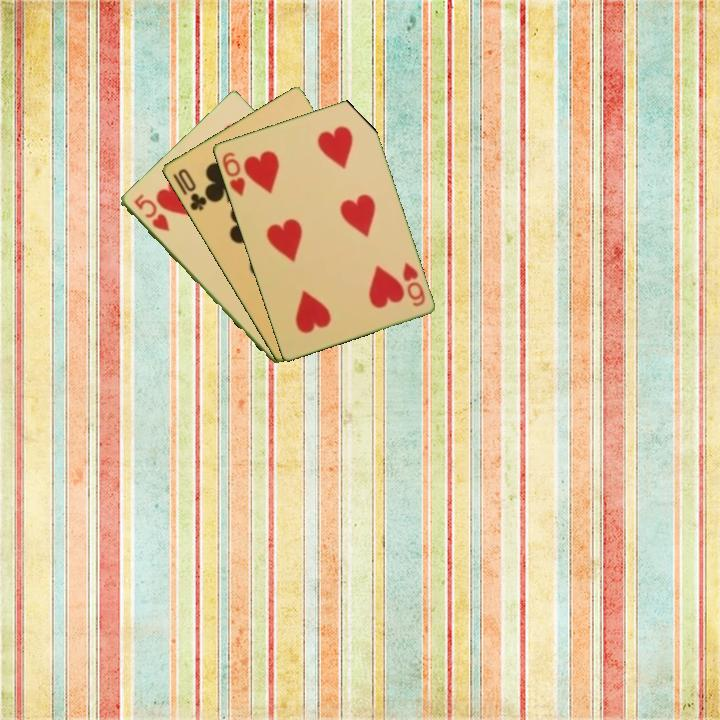10c: (174, 165, 209, 214)
5h: (130, 190, 172, 234)
6h: (218, 148, 248, 199), (399, 258, 428, 309)
